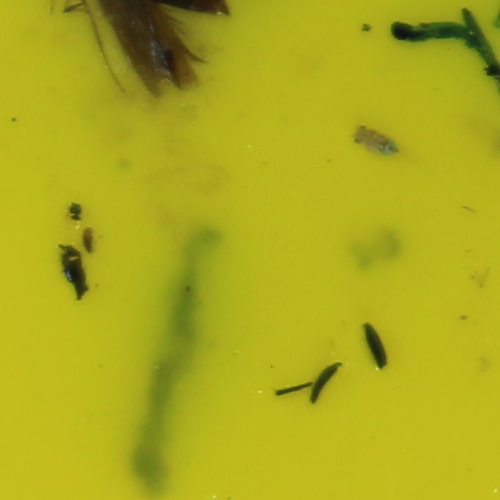Glycaspis: (349, 124, 401, 158)
